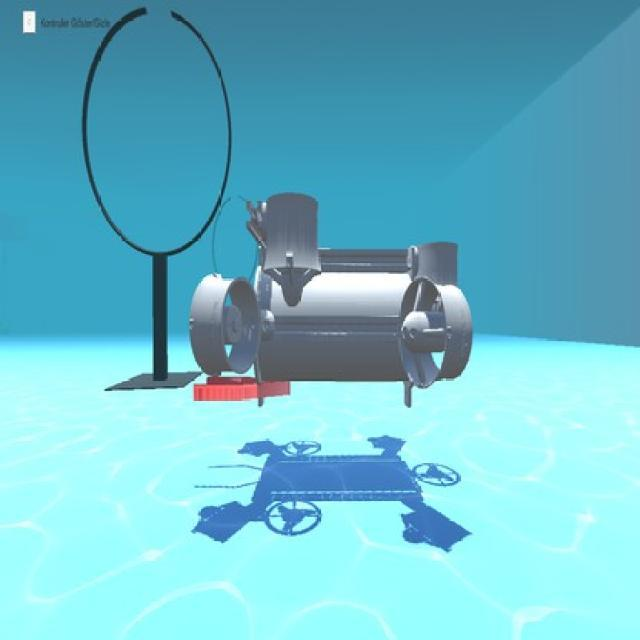Circle: (78, 2, 237, 257)
